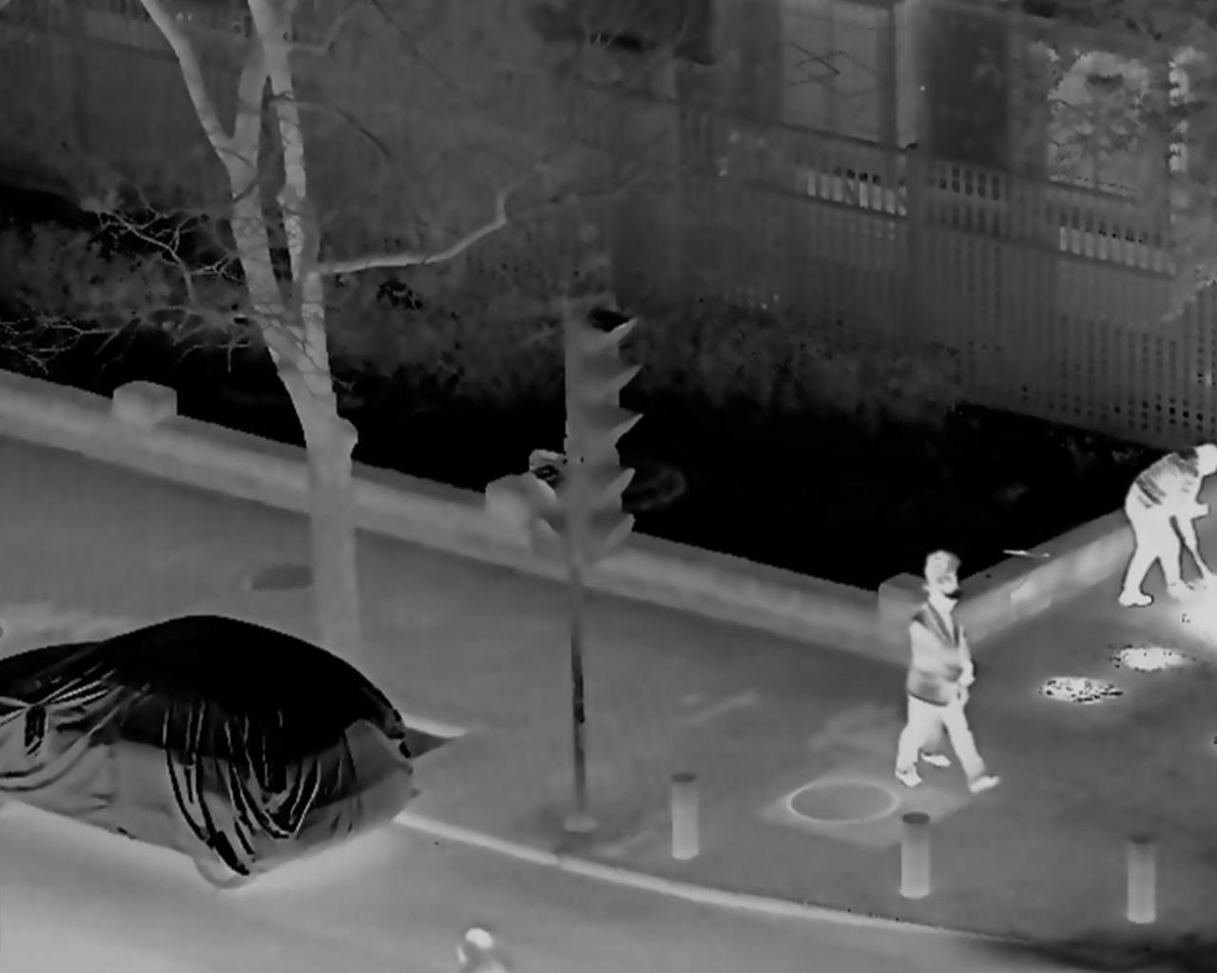person: (900, 580, 1002, 796), (1121, 439, 1216, 619), (911, 551, 982, 773)
